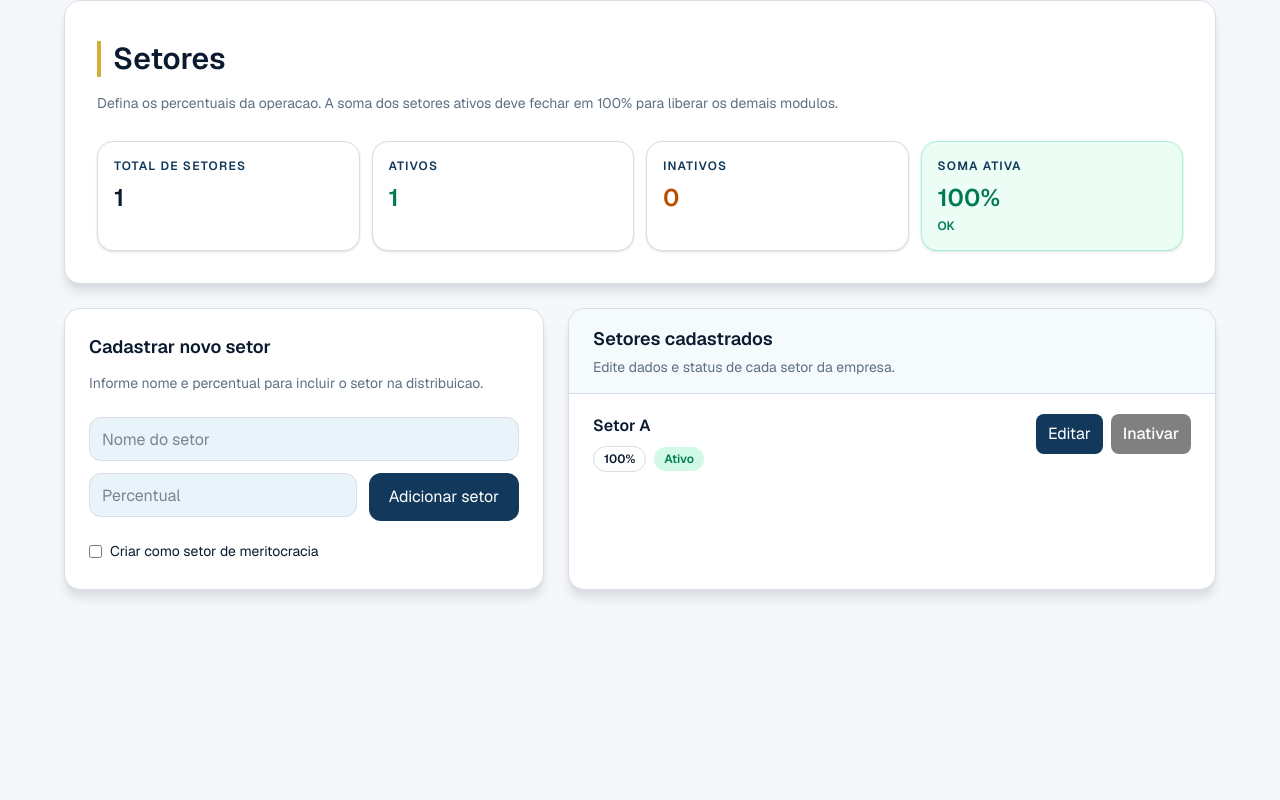
Test: SectorsClient › toggles sector active state
Click the button "Inativar" at (1151, 434), box [1111,414,1191,454]
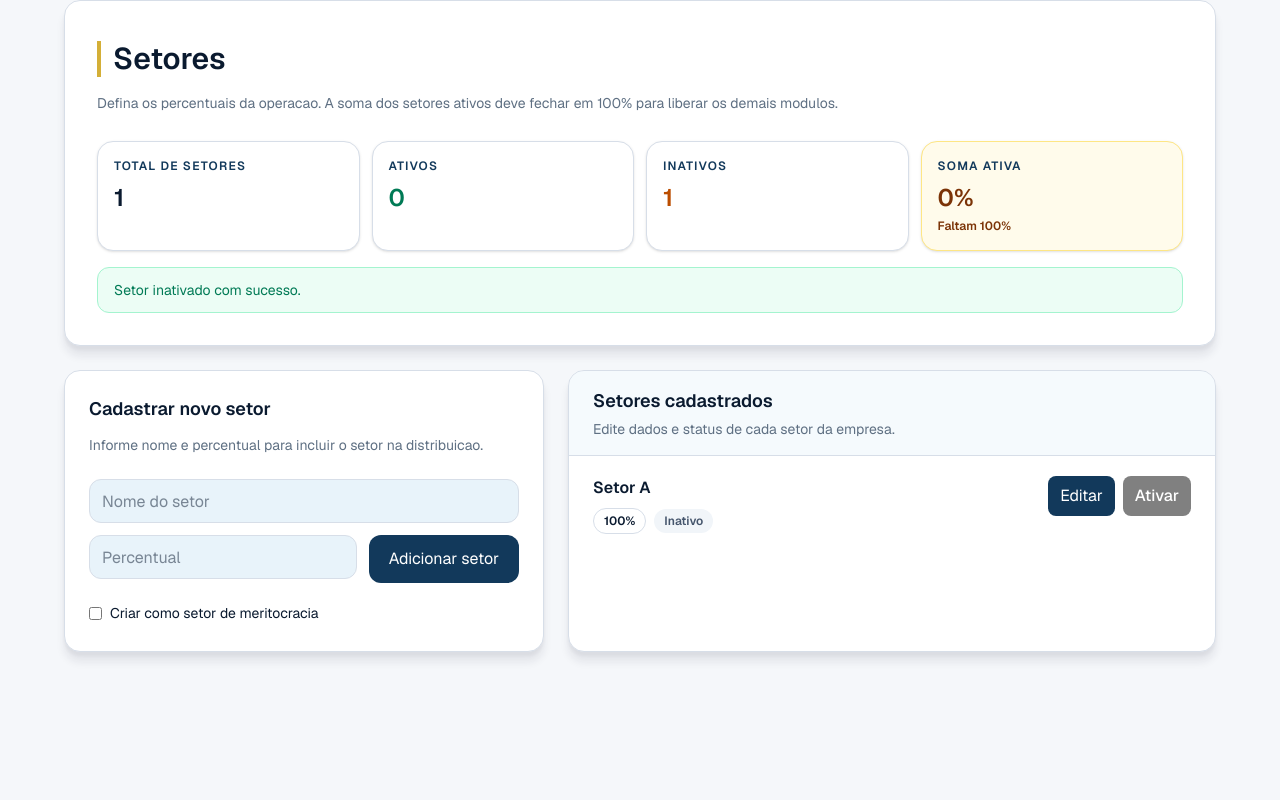
Expected: the text "Setor inativado com sucesso." is shown, [97,267,1183,313]
Expected: the text "Inativo" is shown, [654,509,713,533]
